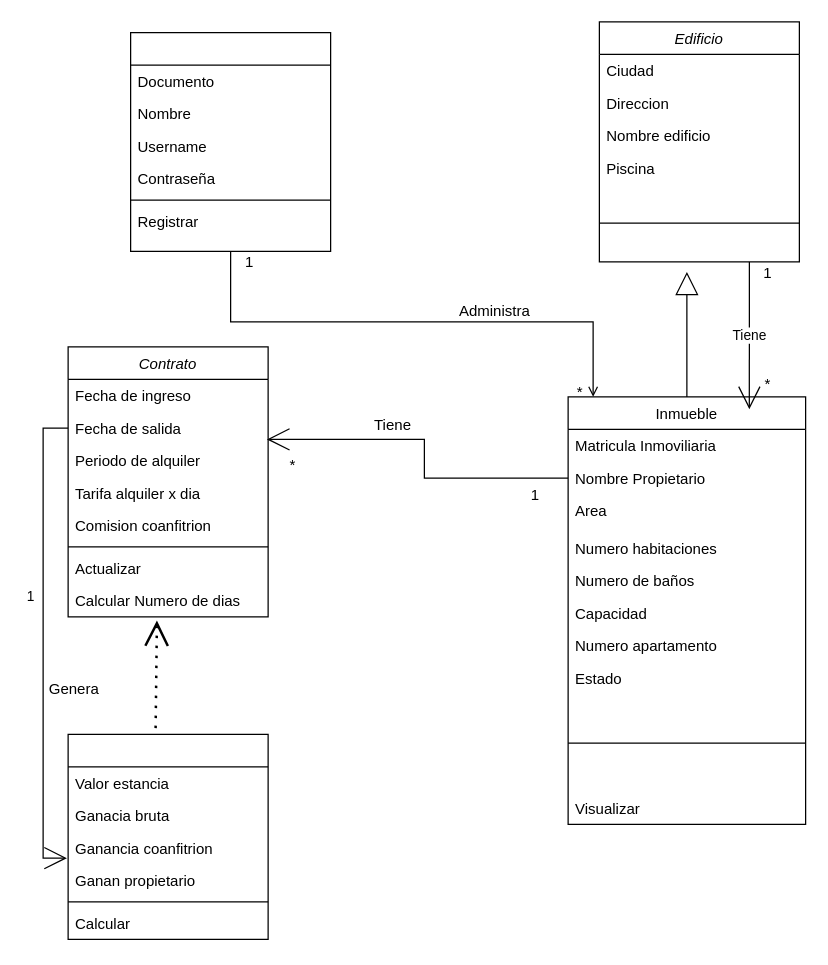
Image size: 828x965. Some labels were removed from this diagram. The box of each missing label's shape, as (x1, y1, x2, y2) in pixels:
Coanfitrion: (129, 31, 331, 251)
Flujo caja: (67, 733, 268, 939)
